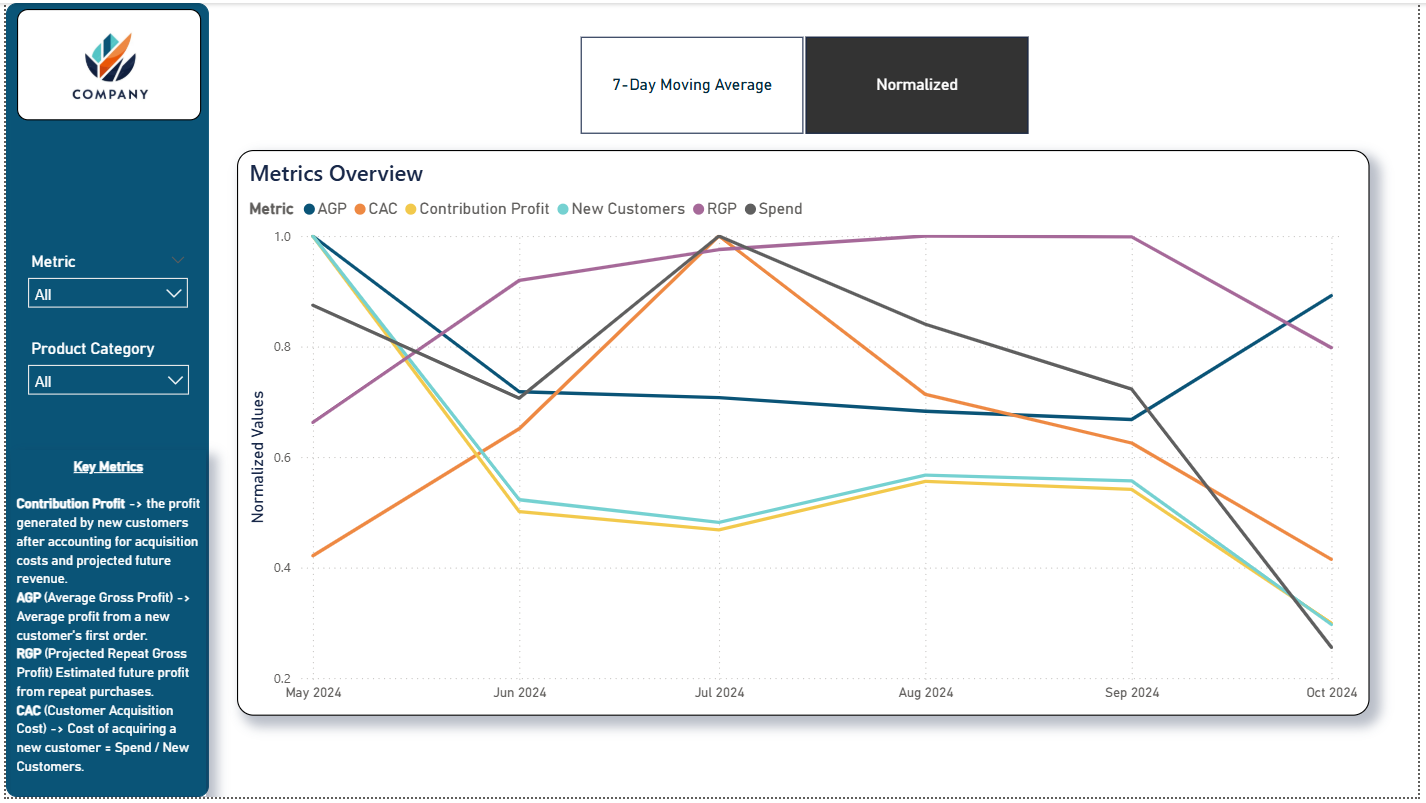

The dashboard page shown, as its layout file describes it:
{"tool":"powerbi","page":{"name":"Metrics Overview","canvas":[1280,720],"ordinal":1},"visuals":[{"type":"shape","box":[0,0,184.1,720.3],"z":0},{"type":"textbox","box":[4.4,405.6,176.7,314.4],"z":3000},{"type":"slicer","fields":{"Values":["Products.Product_Category"]},"box":[10,300,166.2,76.2],"z":4000},{"type":"image","box":[10,5.7,166.7,101],"z":5000},{"type":"slicer","fields":{"Values":["MetricTable.Metric"]},"box":[10,221.2,165,78.8],"z":6000},{"type":"slicer","fields":{"Values":["ViewToggle.View"]},"box":[495.1,23.6,456.1,101.6],"z":7000},{"type":"lineChart","title":"Metrics Overview","fields":{"Y":["ViewToggle.UnifiedToggle"],"Series":["MetricTable.Metric"],"Category":["DateTable.Date"]},"box":[209.5,133.3,1027.4,513.2],"z":8000}]}

Visuals, with their boxes in screenshot pixels (x1, y1, x2, y2), scaled from the page's 1280x720 canvas onto the 1426x803 screenshot:
shape: [0,0,205,802]
textbox: [5,452,202,802]
slicer - Products.Product_Category: [11,335,196,420]
image: [11,6,197,119]
slicer - MetricTable.Metric: [11,247,195,335]
slicer - ViewToggle.View: [552,26,1060,140]
"Metrics Overview" lineChart: [233,149,1378,721]
